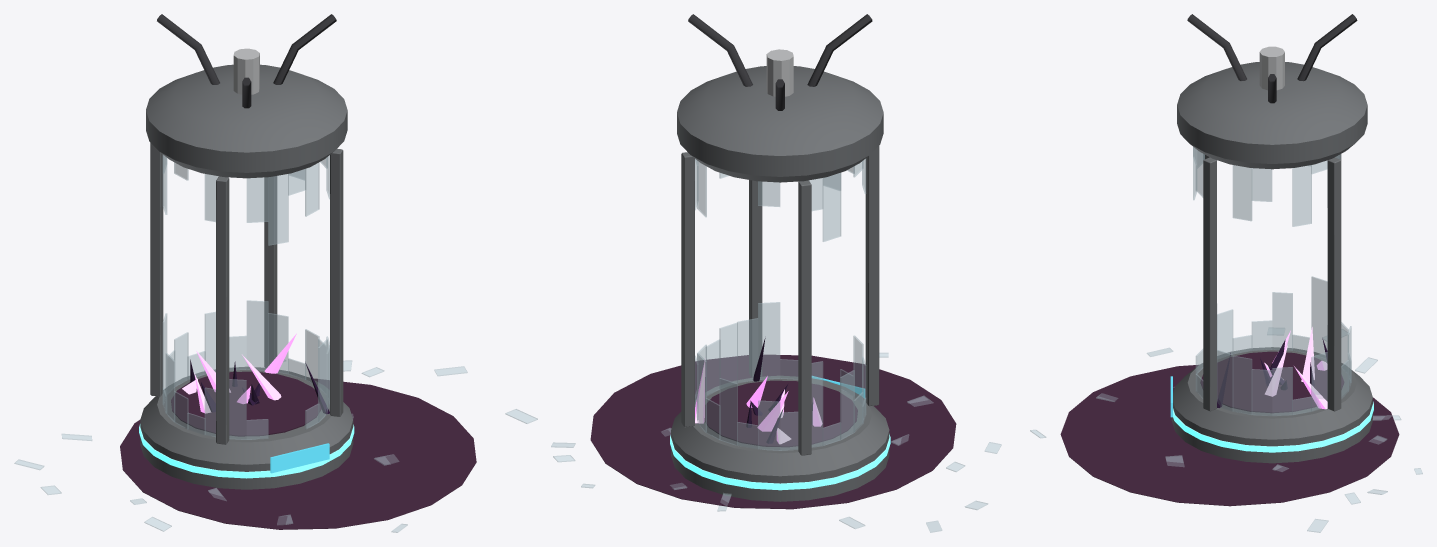
Rendered from containment_tube_broken.glb.
3 renders of one model, left to right at view 1: azimuth 30°, elevation 25°; view 2: azimuth 150°, elevation 25°; view 3: azimuth 270°, elevation 25°, orthographic. The views are drawn at different scales.
Parts seen in each view (by area): view 1: containment_tube_broken; view 2: containment_tube_broken; view 3: containment_tube_broken.
Boxes of the visible parts, x1,y1,x2,y2 form: containment_tube_broken: (14, 14, 476, 532); containment_tube_broken: (505, 14, 1001, 532); containment_tube_broken: (1030, 14, 1422, 532).
Size of the model in its own units: 4.57 by 4.05 by 3.71.
